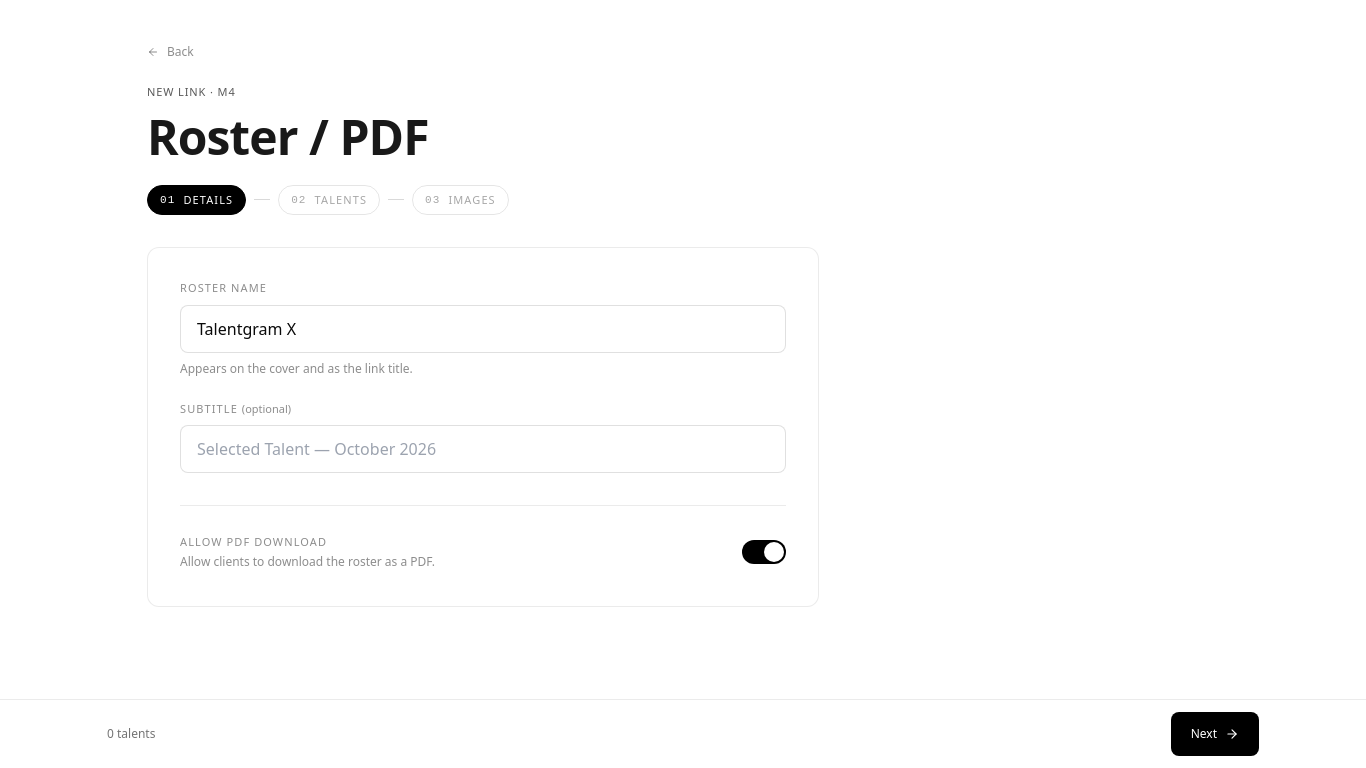
Scenario: RosterBuilder › select all / deselect all / suggested per talent
What coordinates should you click on to do the following:
click the button with test id "roster-next"
I would click on:
 (1215, 734)
Its box is [1171, 712, 1259, 756].
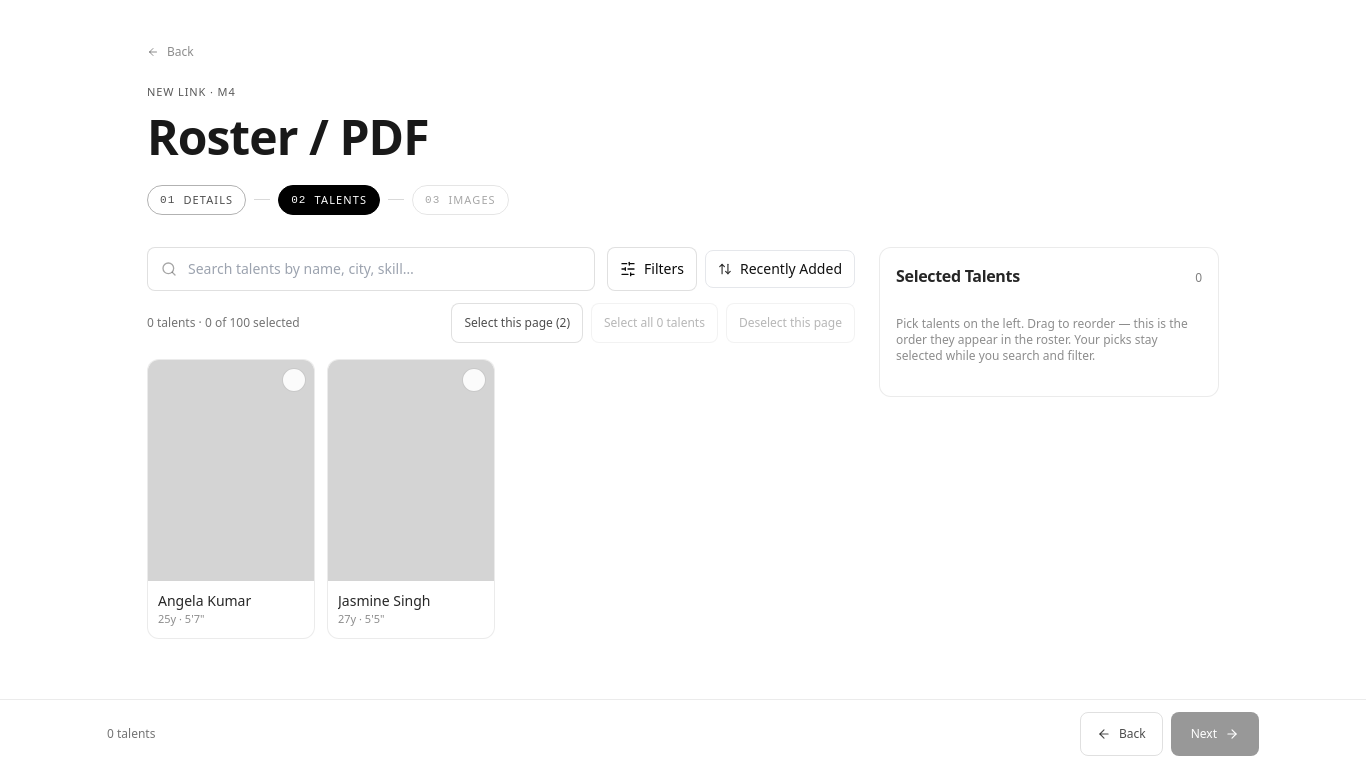
What coordinates should you click on to do the following:
click the button with test id "roster-talent-t1"
I would click on:
 (231, 499)
Its box is [147, 359, 315, 639].
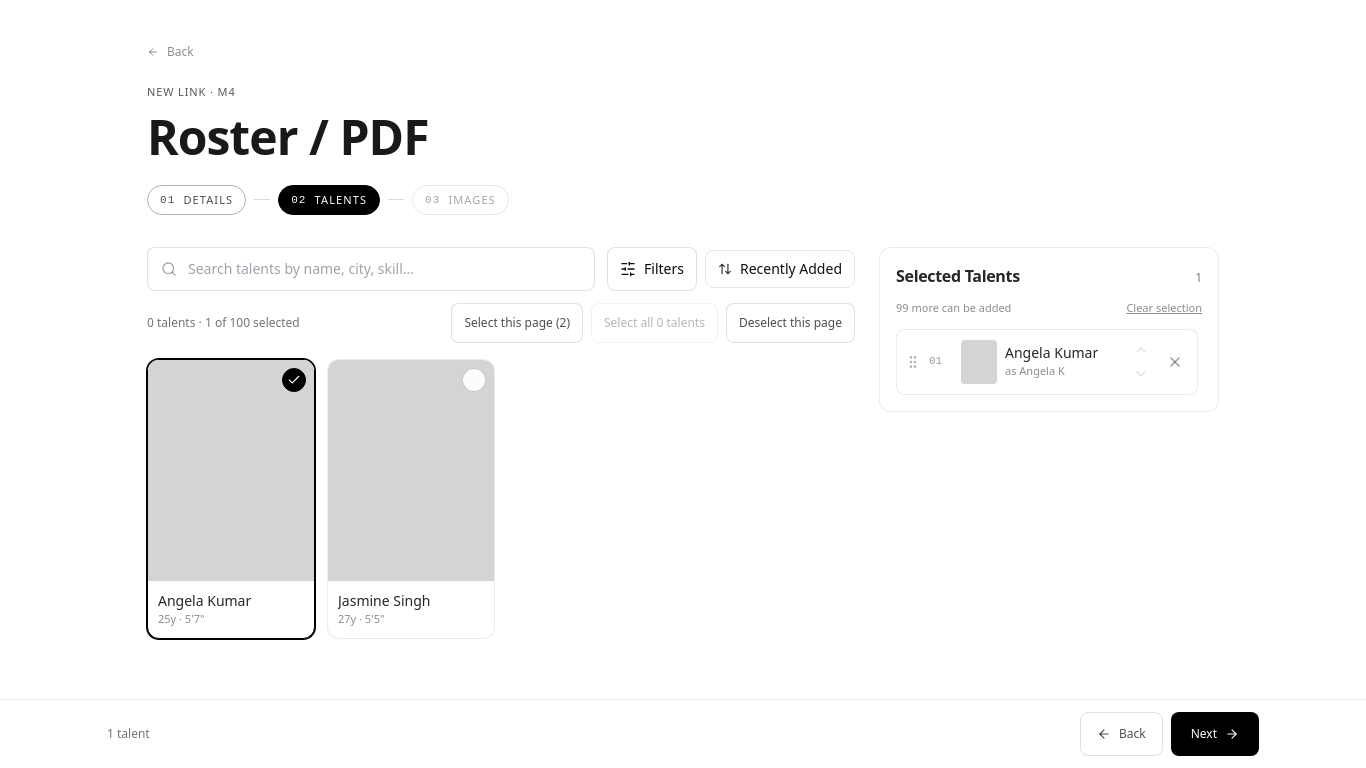
What coordinates should you click on to do the following:
click the button with test id "roster-next"
I would click on:
 (1215, 734)
Its box is [1171, 712, 1259, 756].
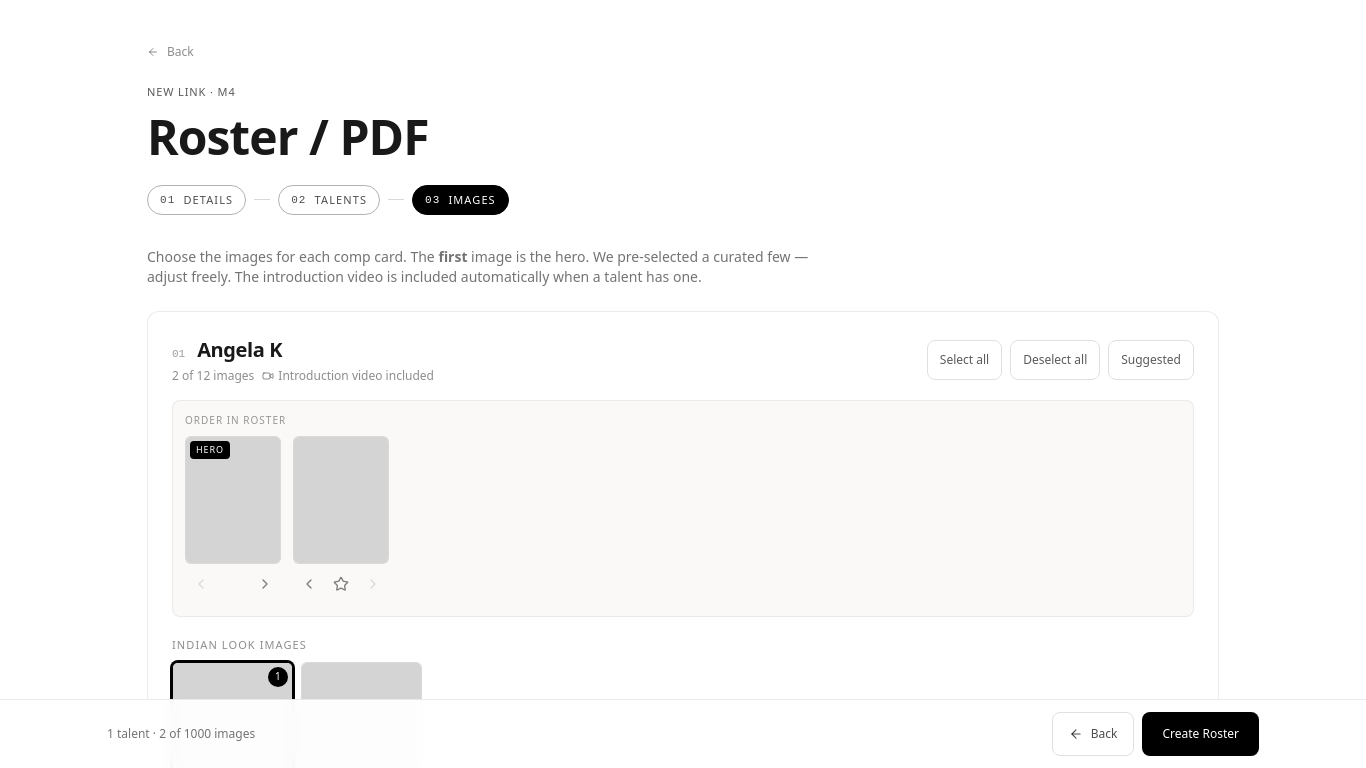
What coordinates should you click on to do the following:
click the button "Select all"
I would click on:
 (964, 360)
Its box is [927, 340, 1002, 380].
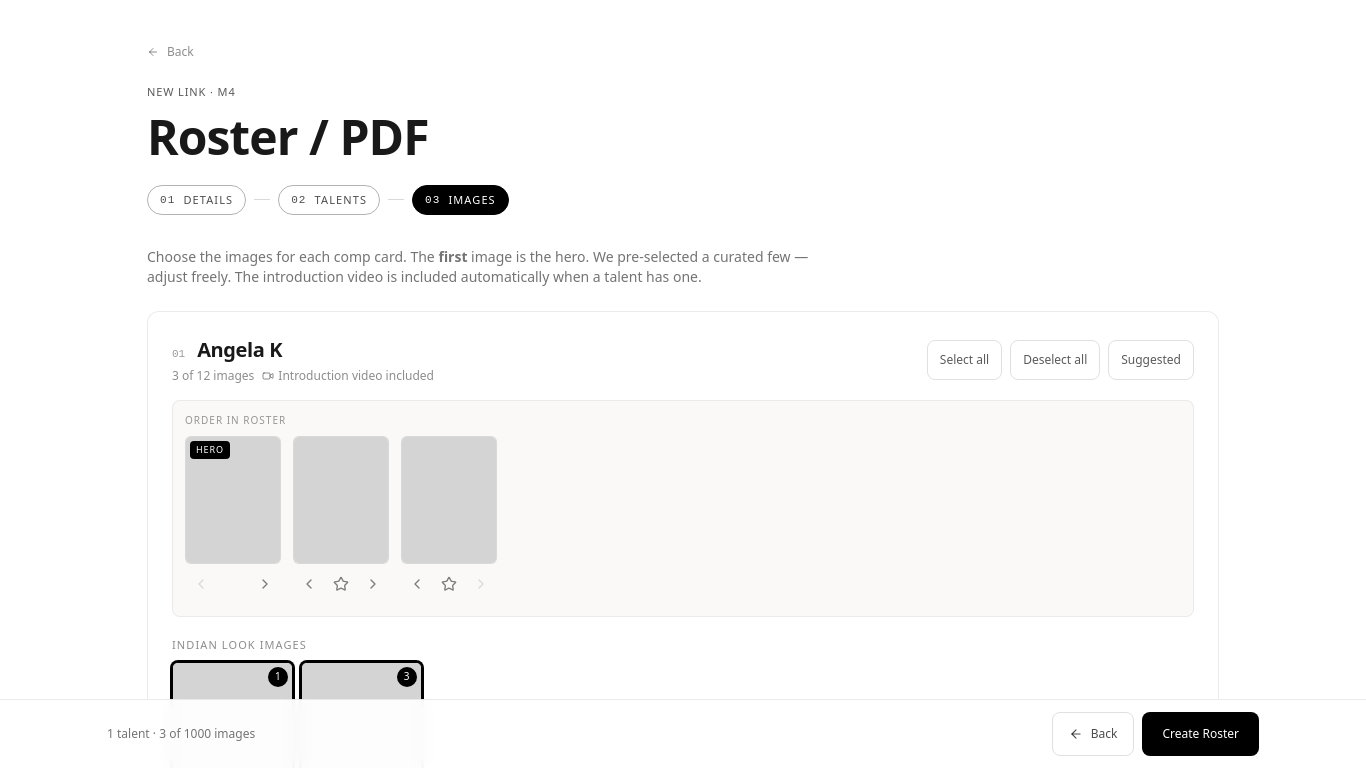
expect the text with test id "roster-count-t1" shows "3 of 12": met, box [172, 368, 254, 384]
What coordinates should you click on to do the following:
click the button "Deselect all"
I would click on:
 (1055, 360)
Its box is [1010, 340, 1100, 380].
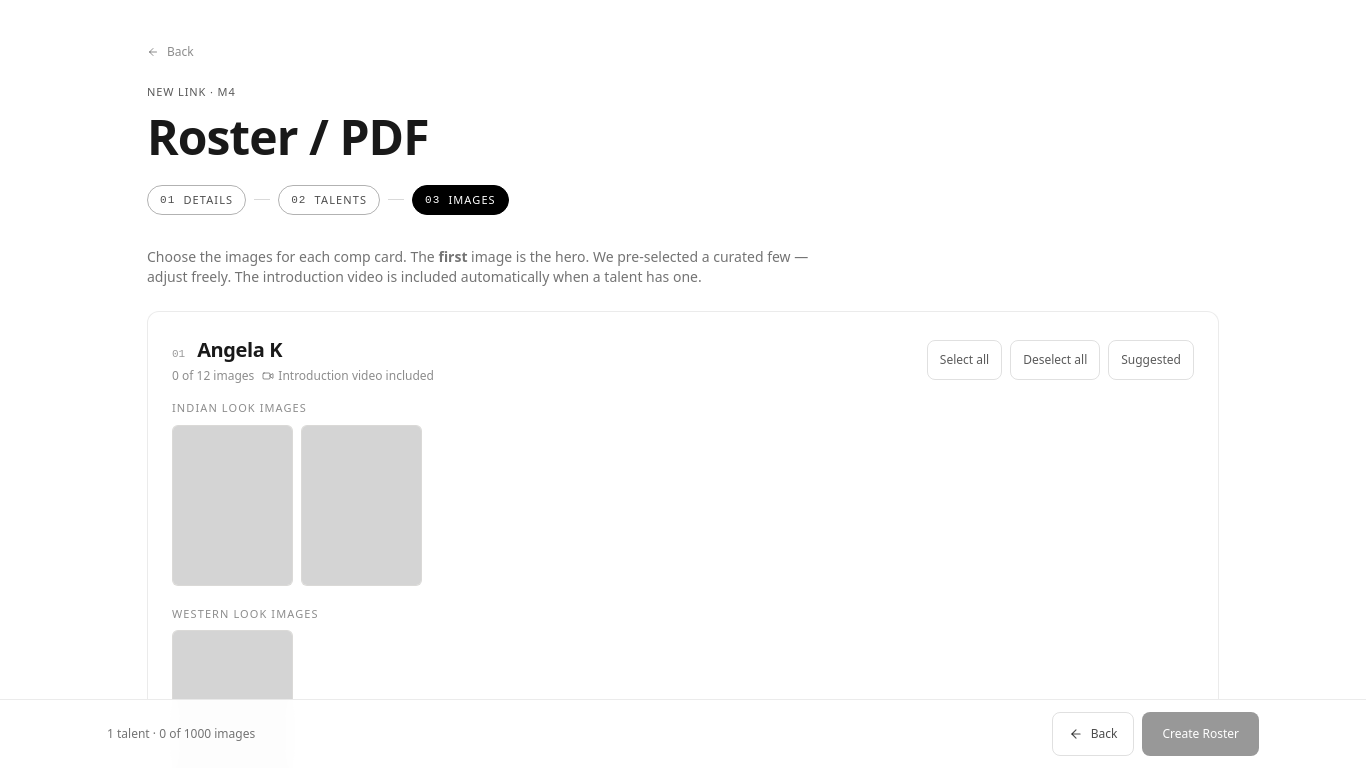
expect the text with test id "roster-count-t1" shows "0 of 12": met, box [172, 368, 254, 384]
expect the button with test id "roster-save" is disabled: met, box [1142, 712, 1259, 756]
What coordinates should you click on to do the following:
click the button "Suggested"
I would click on:
 (1151, 360)
Its box is [1108, 340, 1194, 380].
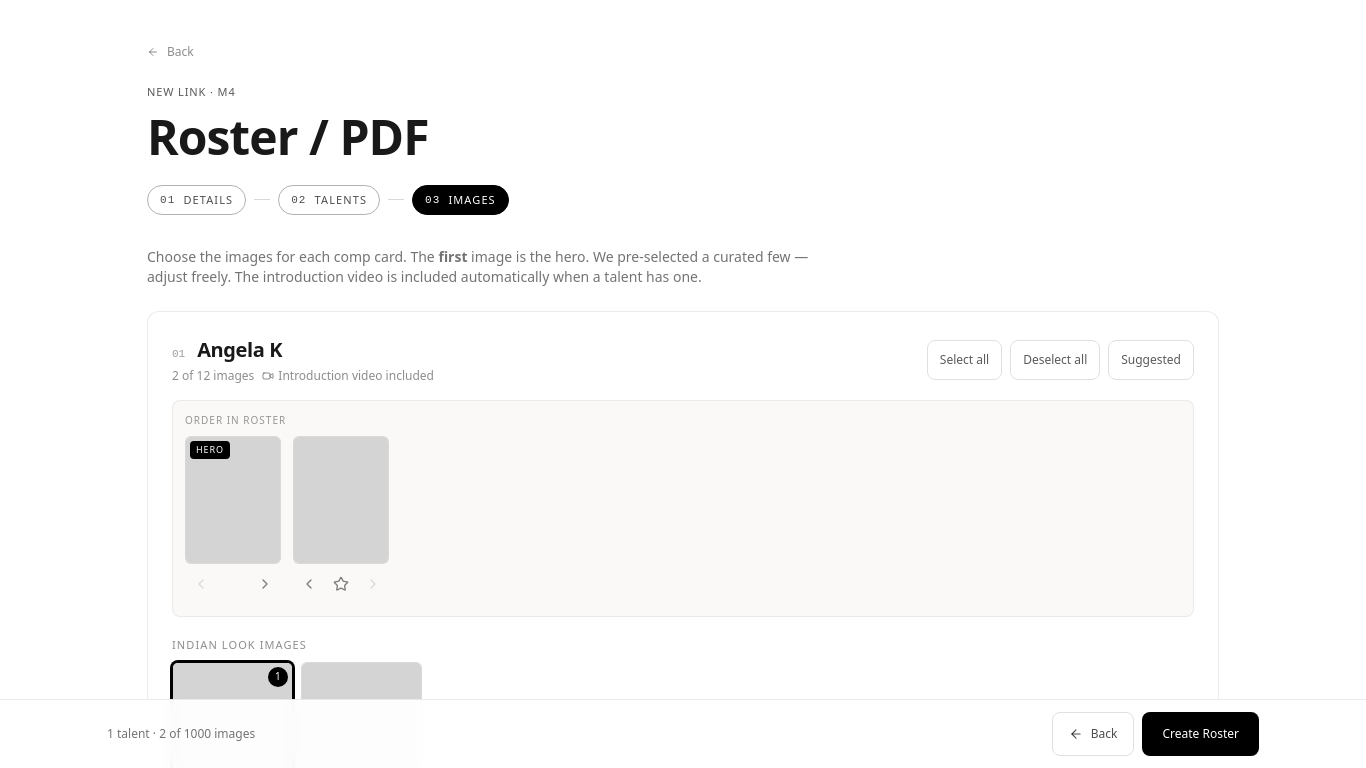
expect the text with test id "roster-count-t1" shows "2 of 12": met, box [172, 368, 254, 384]
